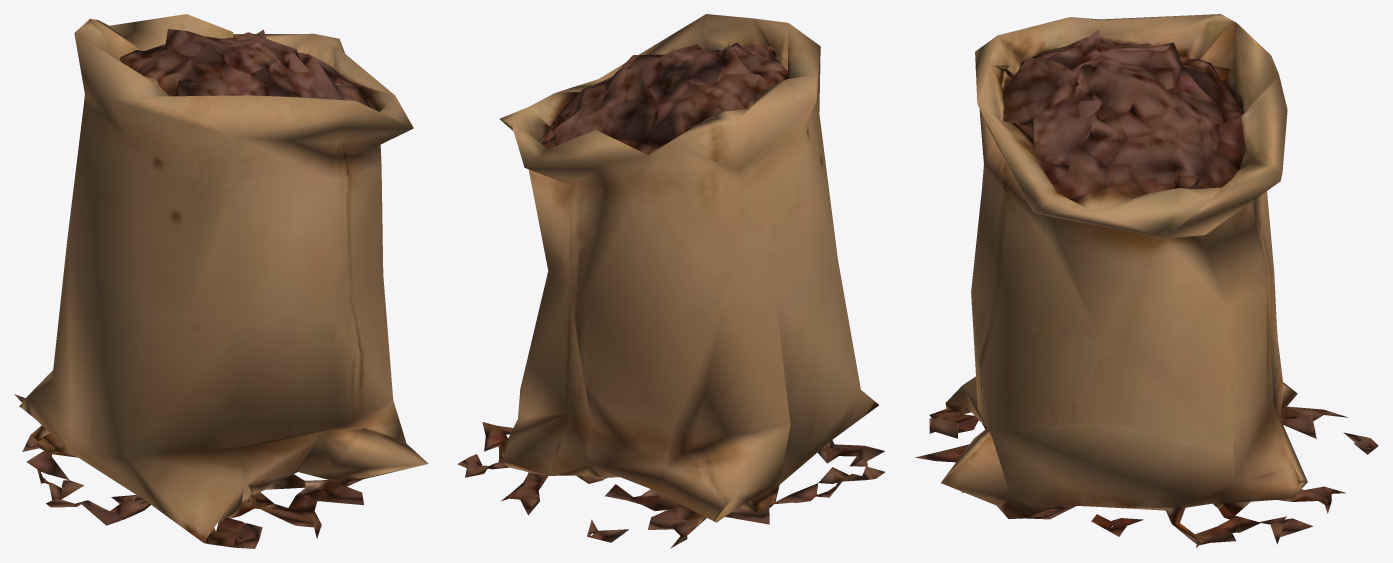
Rendered from coffee-sack.glb.
3 renders of one model, left to right at view 1: azimuth 30°, elevation 25°; view 2: azimuth 150°, elevation 25°; view 3: azimuth 270°, elevation 25°, orthographic. The views are drawn at different scales.
Parts seen in each view (by area): view 1: tripo_node_d114c270-237b-41c9-a871-f200aa14ddeb; view 2: tripo_node_d114c270-237b-41c9-a871-f200aa14ddeb; view 3: tripo_node_d114c270-237b-41c9-a871-f200aa14ddeb.
Boxes of the visible parts, x1,y1,x2,y2 form: tripo_node_d114c270-237b-41c9-a871-f200aa14ddeb: (14, 14, 428, 548); tripo_node_d114c270-237b-41c9-a871-f200aa14ddeb: (457, 14, 884, 548); tripo_node_d114c270-237b-41c9-a871-f200aa14ddeb: (915, 14, 1378, 548).
Bounding box in the file's own units: 0.8608 × 0.9497 × 0.943.
1 material, 1 textured.
